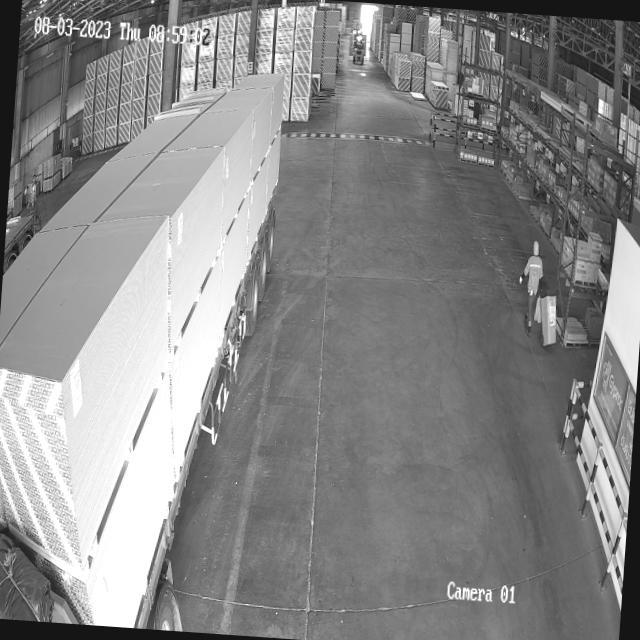person: (514, 234, 548, 338), (28, 175, 36, 203)
